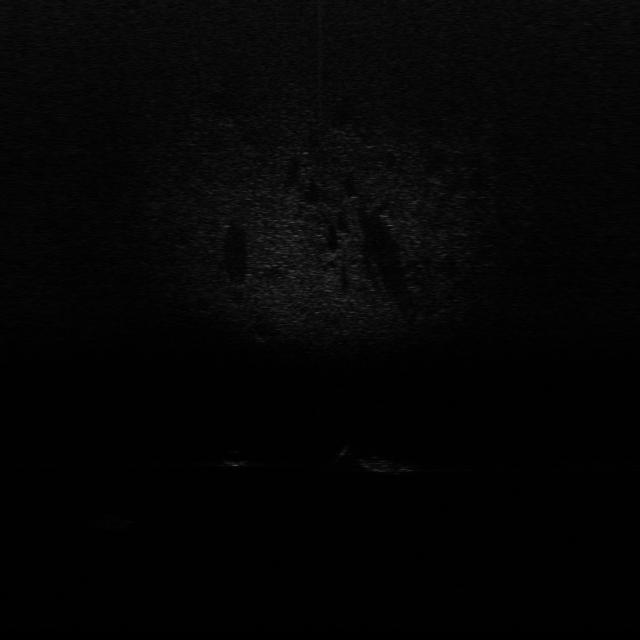ball: (217, 446, 251, 469)
circle cage: (76, 511, 144, 533)
human body: (338, 439, 421, 480)
